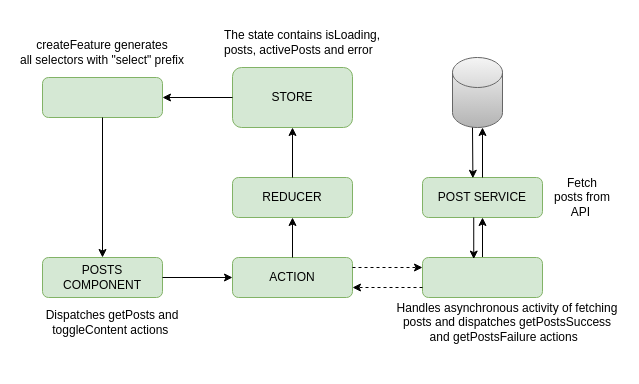
Some shapes in this 639 by 384 pixel diagram are drawn without their labels. Here are the shapes that lost their labels. From the top down, the box of each, then its label:
(42, 76, 162, 118): SELECTOR
(422, 256, 542, 298): EFFECTS
